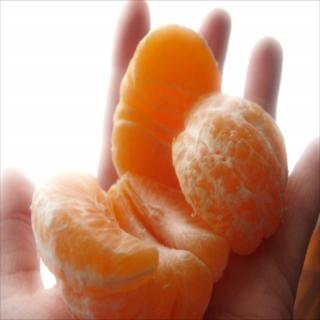Orange: (30, 25, 288, 319)
